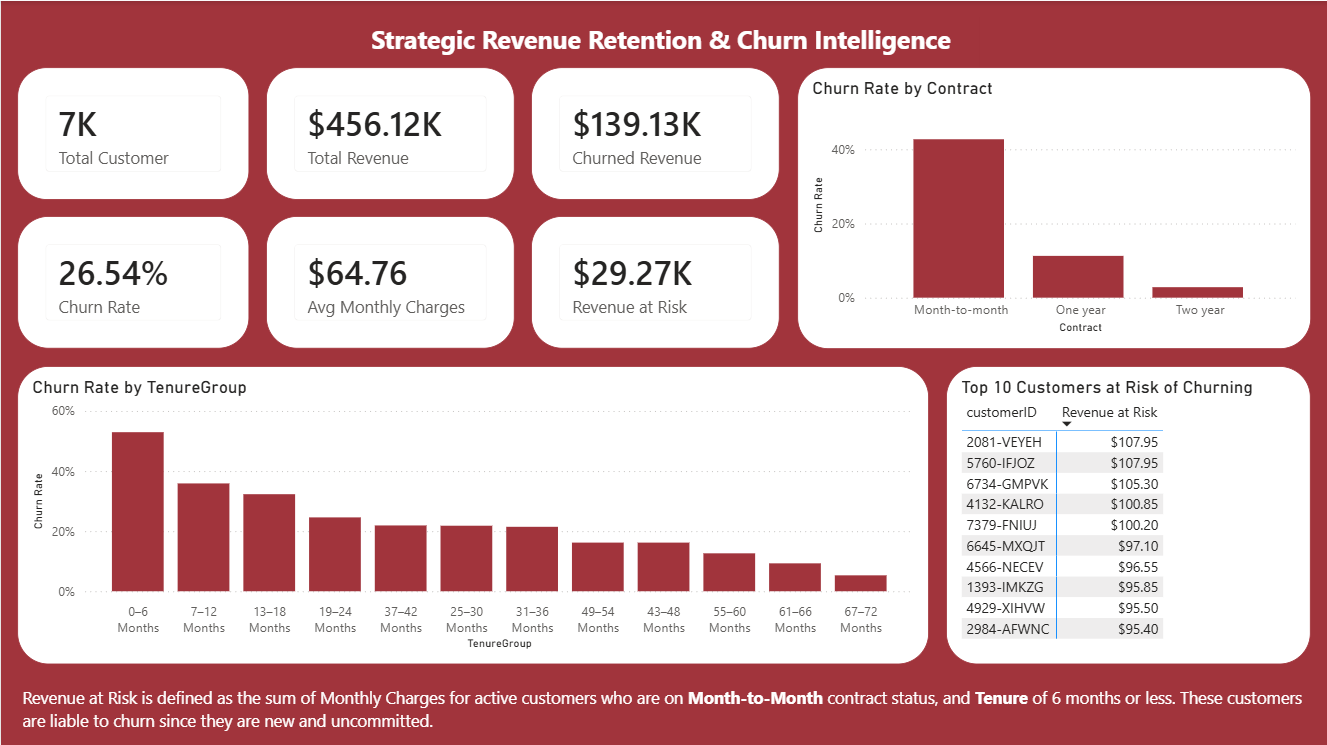

What the dashboard file says about the page in this screenshot:
{"tool":"powerbi","page":{"name":"Page 1","canvas":[1280,720],"ordinal":0},"visuals":[{"type":"textbox","box":[352,16,592,48],"z":0},{"type":"cardVisual","fields":{"Data":["claeaned_telco_customer_churn.Total Customer"]},"box":[16,64,224,128],"z":1000},{"type":"cardVisual","fields":{"Data":["claeaned_telco_customer_churn.Churn Rate"]},"box":[16,208,224,128],"z":2000},{"type":"cardVisual","fields":{"Data":["claeaned_telco_customer_churn.Avg Monthly Charges"]},"box":[256,208,240,128],"z":3000},{"type":"cardVisual","fields":{"Data":["claeaned_telco_customer_churn.Revenue at Risk"]},"box":[512,64,240,128],"z":4000},{"type":"cardVisual","fields":{"Data":["claeaned_telco_customer_churn.Revenue at Risk"]},"box":[512,208,240,128],"z":5000},{"type":"cardVisual","fields":{"Data":["claeaned_telco_customer_churn.Total Revenue"]},"box":[256,64,240,128],"z":6000},{"type":"clusteredColumnChart","fields":{"Y":["claeaned_telco_customer_churn.Churn Rate"],"Category":["claeaned_telco_customer_churn.Contract"]},"box":[768,64,496,272],"z":7000},{"type":"clusteredColumnChart","fields":{"Y":["claeaned_telco_customer_churn.Churn Rate"],"Category":["claeaned_telco_customer_churn.TenureGroup"]},"box":[16,352,880,288],"z":8000},{"type":"pivotTable","title":"Top 10 Customers at Risk of Churning","fields":{"Rows":["claeaned_telco_customer_churn.customerID"],"Values":["claeaned_telco_customer_churn.Revenue at Risk"]},"box":[912,352,352,288],"z":9000},{"type":"textbox","box":[16,656,1248,64],"z":10001}]}

Visuals, with their boxes in screenshot pixels (x1, y1, x2, y2), scaled from the page's 1280x720 canvas onto the 1327x745 screenshot:
textbox: select_region(365, 17, 979, 66)
cardVisual - claeaned_telco_customer_churn.Total Customer: select_region(17, 66, 249, 199)
cardVisual - claeaned_telco_customer_churn.Churn Rate: select_region(17, 215, 249, 348)
cardVisual - claeaned_telco_customer_churn.Avg Monthly Charges: select_region(265, 215, 514, 348)
cardVisual - claeaned_telco_customer_churn.Revenue at Risk: select_region(531, 66, 780, 199)
cardVisual - claeaned_telco_customer_churn.Revenue at Risk: select_region(531, 215, 780, 348)
cardVisual - claeaned_telco_customer_churn.Total Revenue: select_region(265, 66, 514, 199)
clusteredColumnChart - claeaned_telco_customer_churn.Churn Rate x claeaned_telco_customer_churn.Contract: select_region(796, 66, 1310, 348)
clusteredColumnChart - claeaned_telco_customer_churn.Churn Rate x claeaned_telco_customer_churn.TenureGroup: select_region(17, 364, 929, 662)
"Top 10 Customers at Risk of Churning" pivotTable: select_region(945, 364, 1310, 662)
textbox: select_region(17, 679, 1310, 744)
